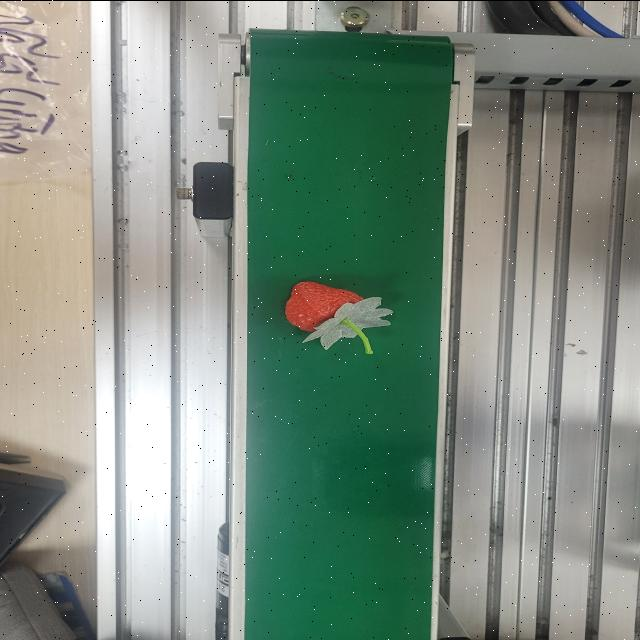Small Ripe Strawberry: (276, 281, 384, 343)
